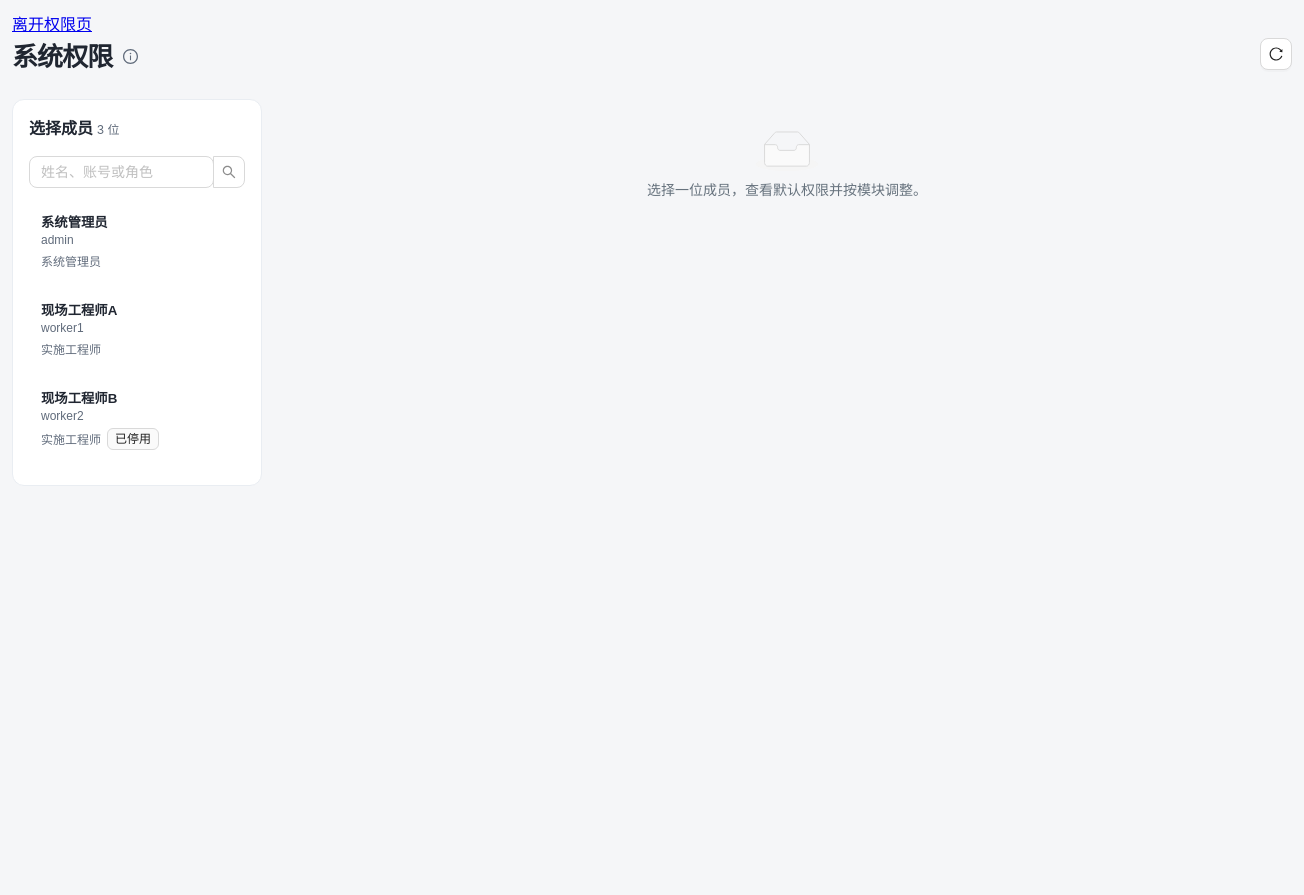
Test case: does not claim that an allowed override is effective on an inactive account
Click the button with aria-label "选择成员：现场工程师B" at (137, 419), box x1=29 y1=376 x2=245 y2=462
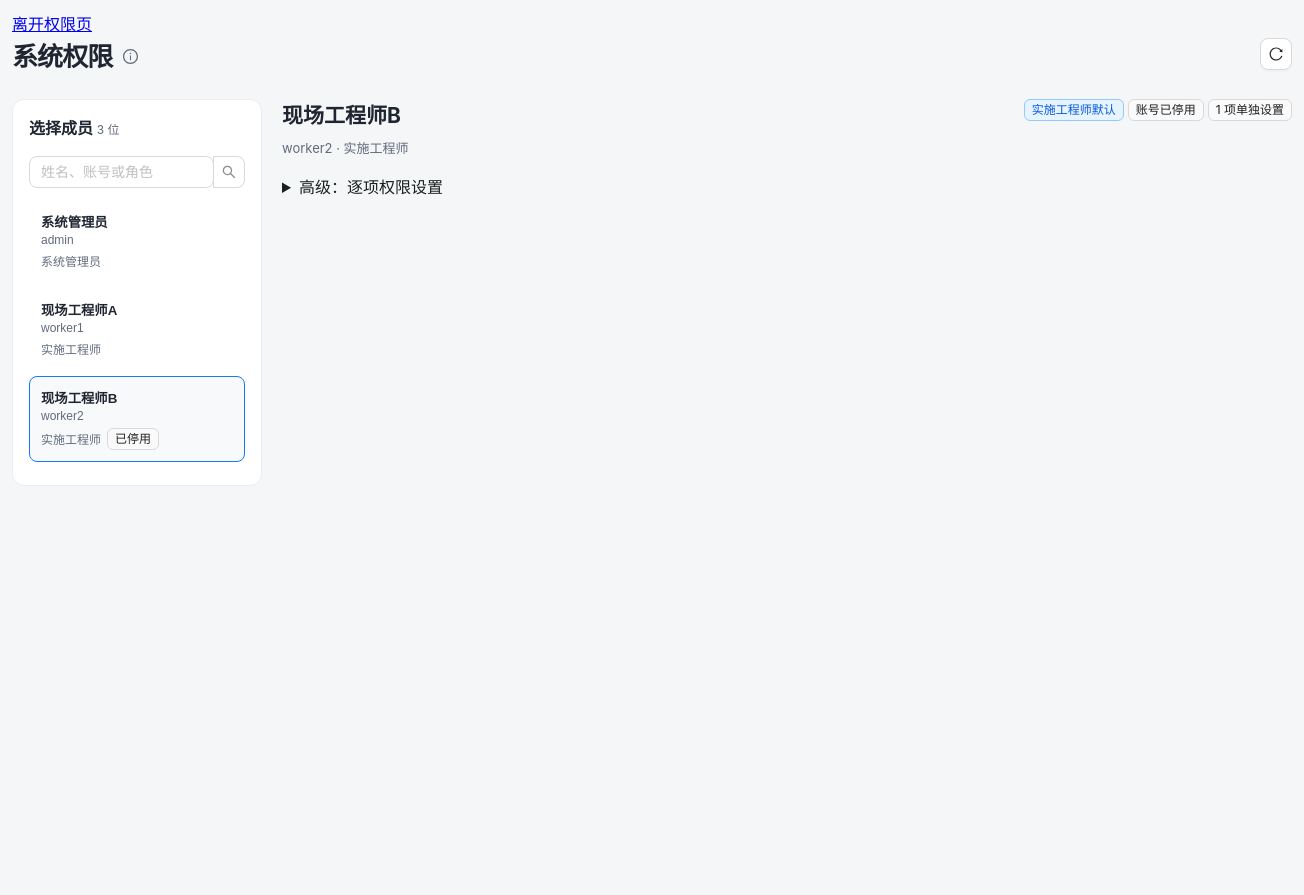
Expected: the heading "现场工程师B" is shown, x1=282 y1=99 x2=409 y2=133
Click the heading "高级：逐项权限设置" at (371, 187), box x1=299 y1=177 x2=443 y2=197
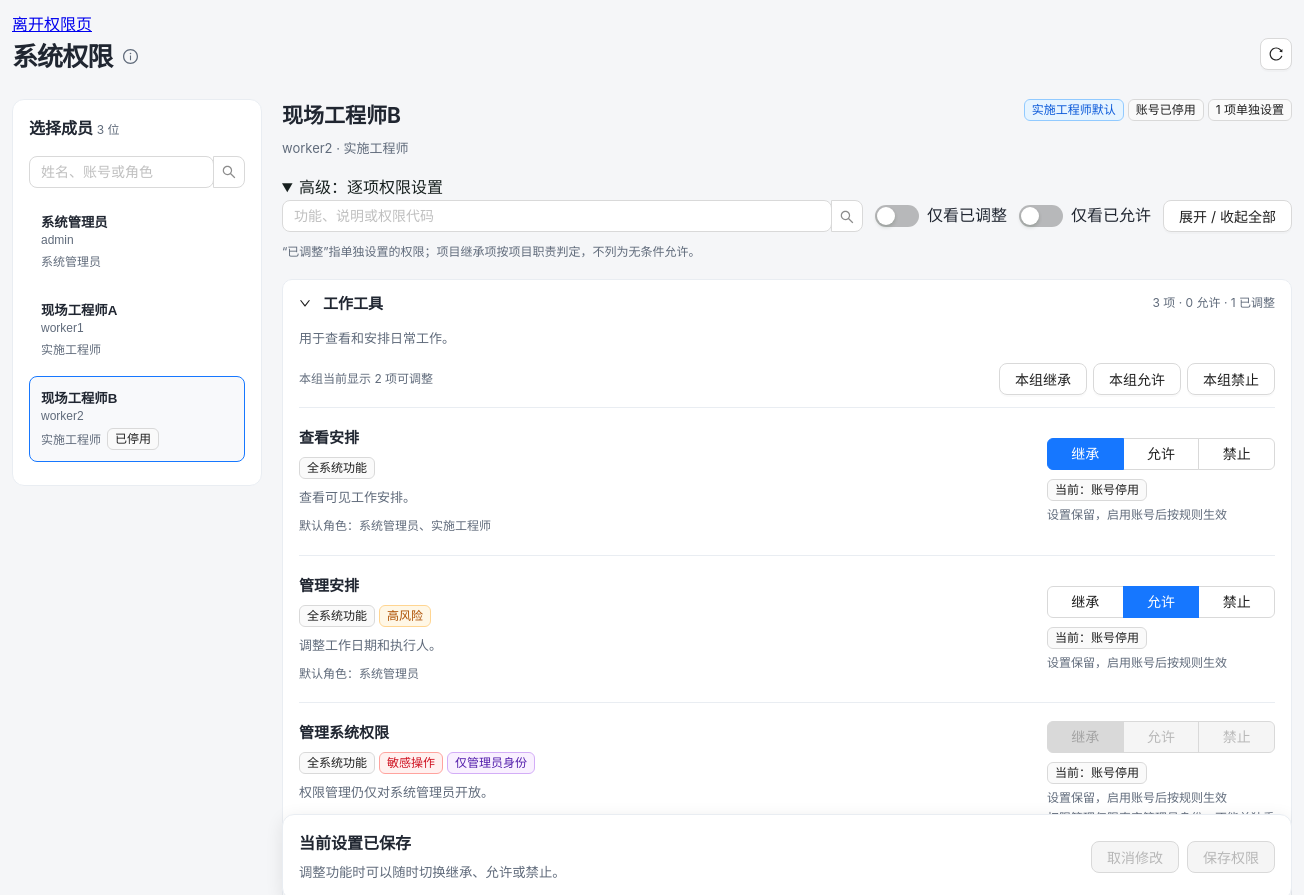
Expected: the element named "权限：管理安排" shows "当前：账号停用", x1=299 y1=556 x2=1275 y2=703
Expected: the element named "权限：管理安排" shows "启用账号后按规则生效", x1=1047 y1=655 x2=1227 y2=670
Expected: the radio button labelled "允许" in the row of "高风险" is checked, x1=1123 y1=586 x2=1199 y2=618
